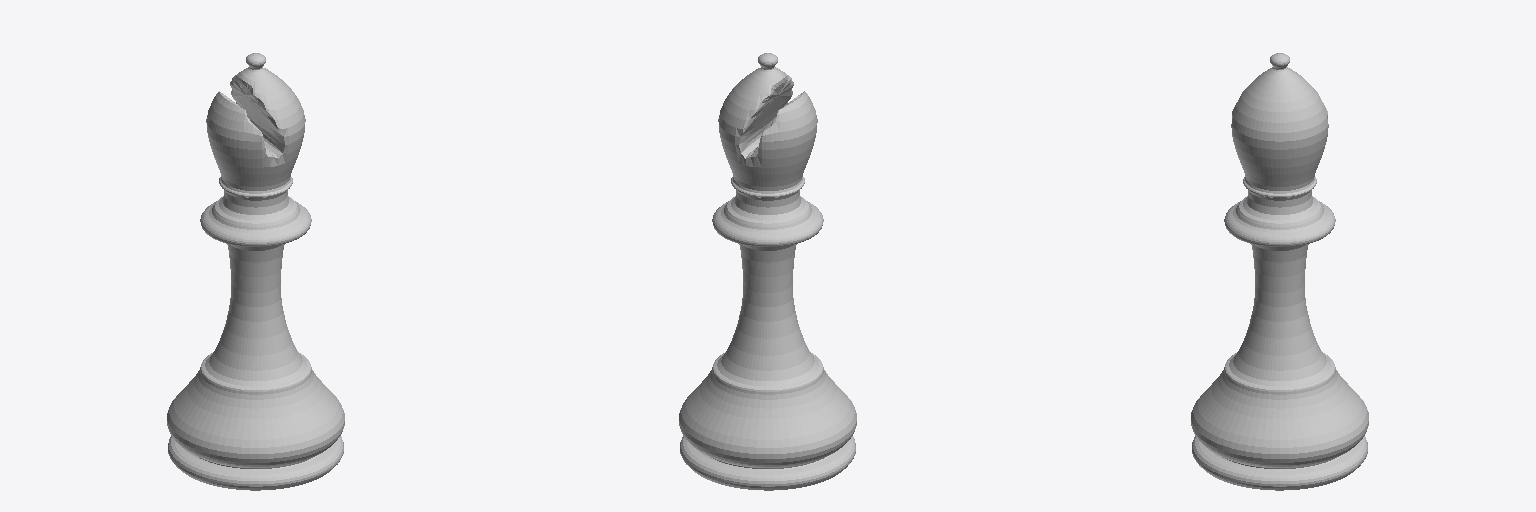
File: bishop.obj
3 renders of one model, left to right at view 1: azimuth 30°, elevation 25°; view 2: azimuth 150°, elevation 25°; view 3: azimuth 270°, elevation 25°, orthographic.
Visible parts, largest first — view 1: bishop_white_1_Cylinder.035; view 2: bishop_white_1_Cylinder.035; view 3: bishop_white_1_Cylinder.035.
Boxes of the visible parts, <box> form: bishop_white_1_Cylinder.035: <box>167,53,344,490</box>; bishop_white_1_Cylinder.035: <box>679,53,856,490</box>; bishop_white_1_Cylinder.035: <box>1191,53,1368,490</box>.
Bounding box in the file's own units: 1.17 × 2.93 × 1.17.